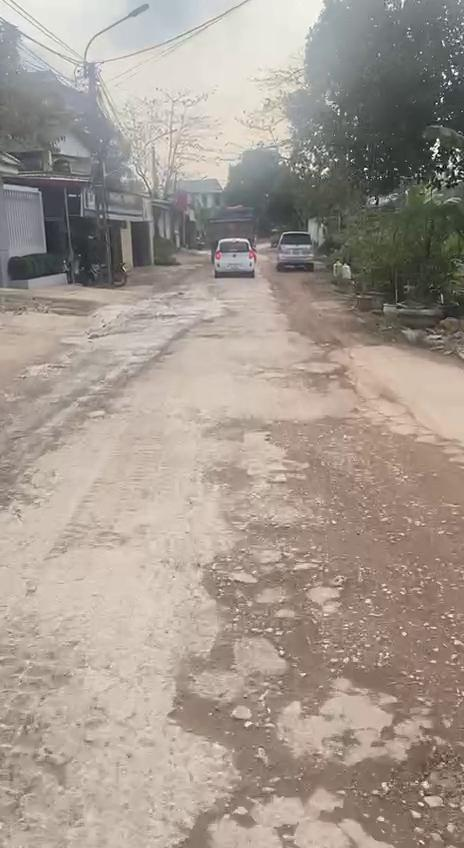pothole: (151, 684, 464, 848), (205, 568, 336, 694), (215, 516, 319, 574)
